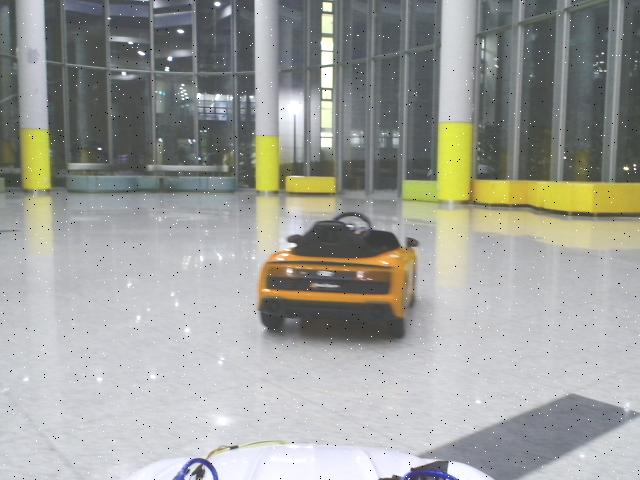car: (258, 212, 420, 336)
